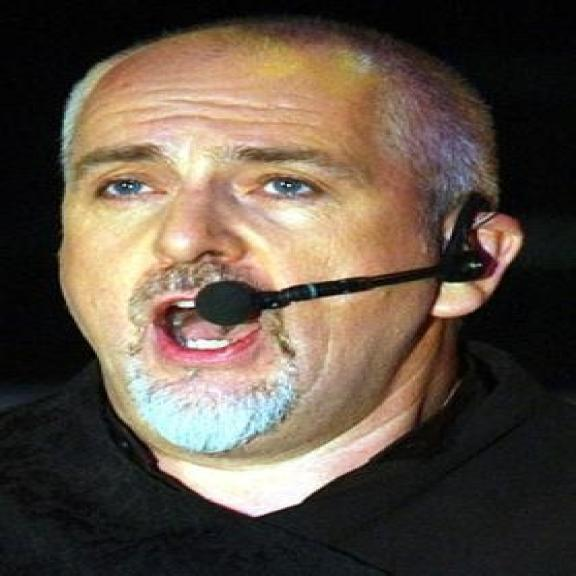face: (71, 74, 530, 465)
